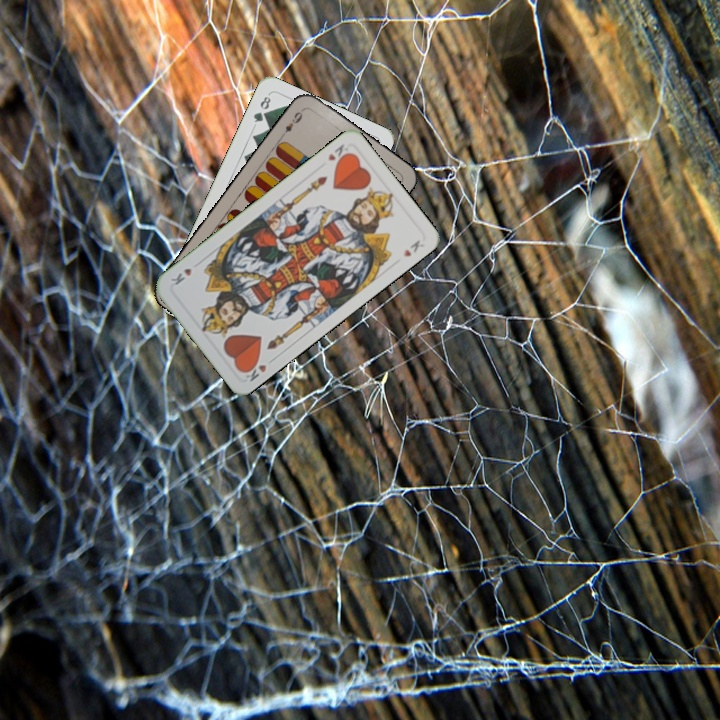E9: (277, 105, 306, 140)
G8: (249, 90, 273, 125)
HK: (239, 354, 277, 384), (323, 140, 353, 167)
